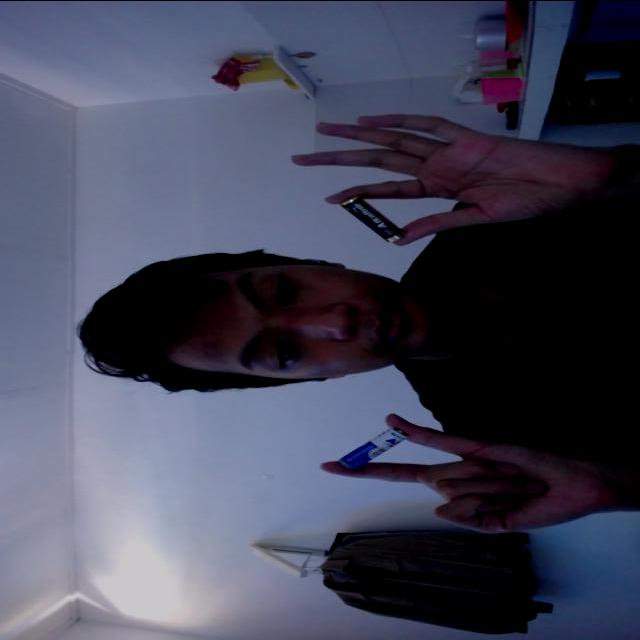AA: (325, 419, 420, 473), (330, 192, 428, 243)
